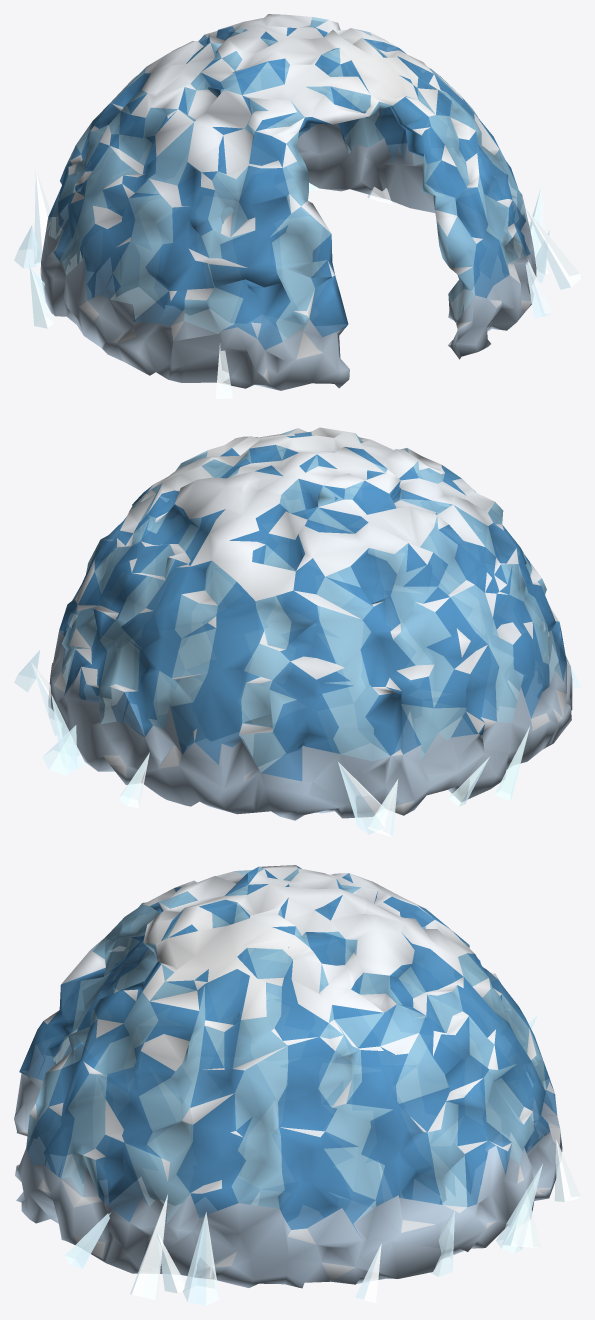
The model's file is frost_rime_dome_lod1.glb.
The picture shows the model from 3 angles, top to bottom: view 1: azimuth 30°, elevation 25°; view 2: azimuth 150°, elevation 25°; view 3: azimuth 270°, elevation 25°; orthographic projection. The views are drawn at different scales.
Visible parts, largest first — view 1: frost_rime_dome.001; view 2: frost_rime_dome.001; view 3: frost_rime_dome.001.
Boxes of the visible parts, box(x1,y1,x2,y2) form: frost_rime_dome.001: box(14, 14, 580, 398); frost_rime_dome.001: box(14, 427, 580, 836); frost_rime_dome.001: box(14, 865, 580, 1305).
Bounding box in the file's own units: 35.76 × 18.53 × 32.73.
